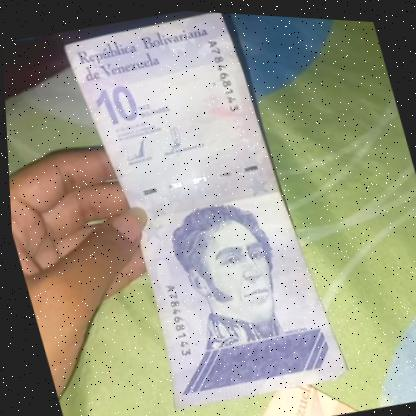ten-front-vef: (68, 3, 347, 416)
